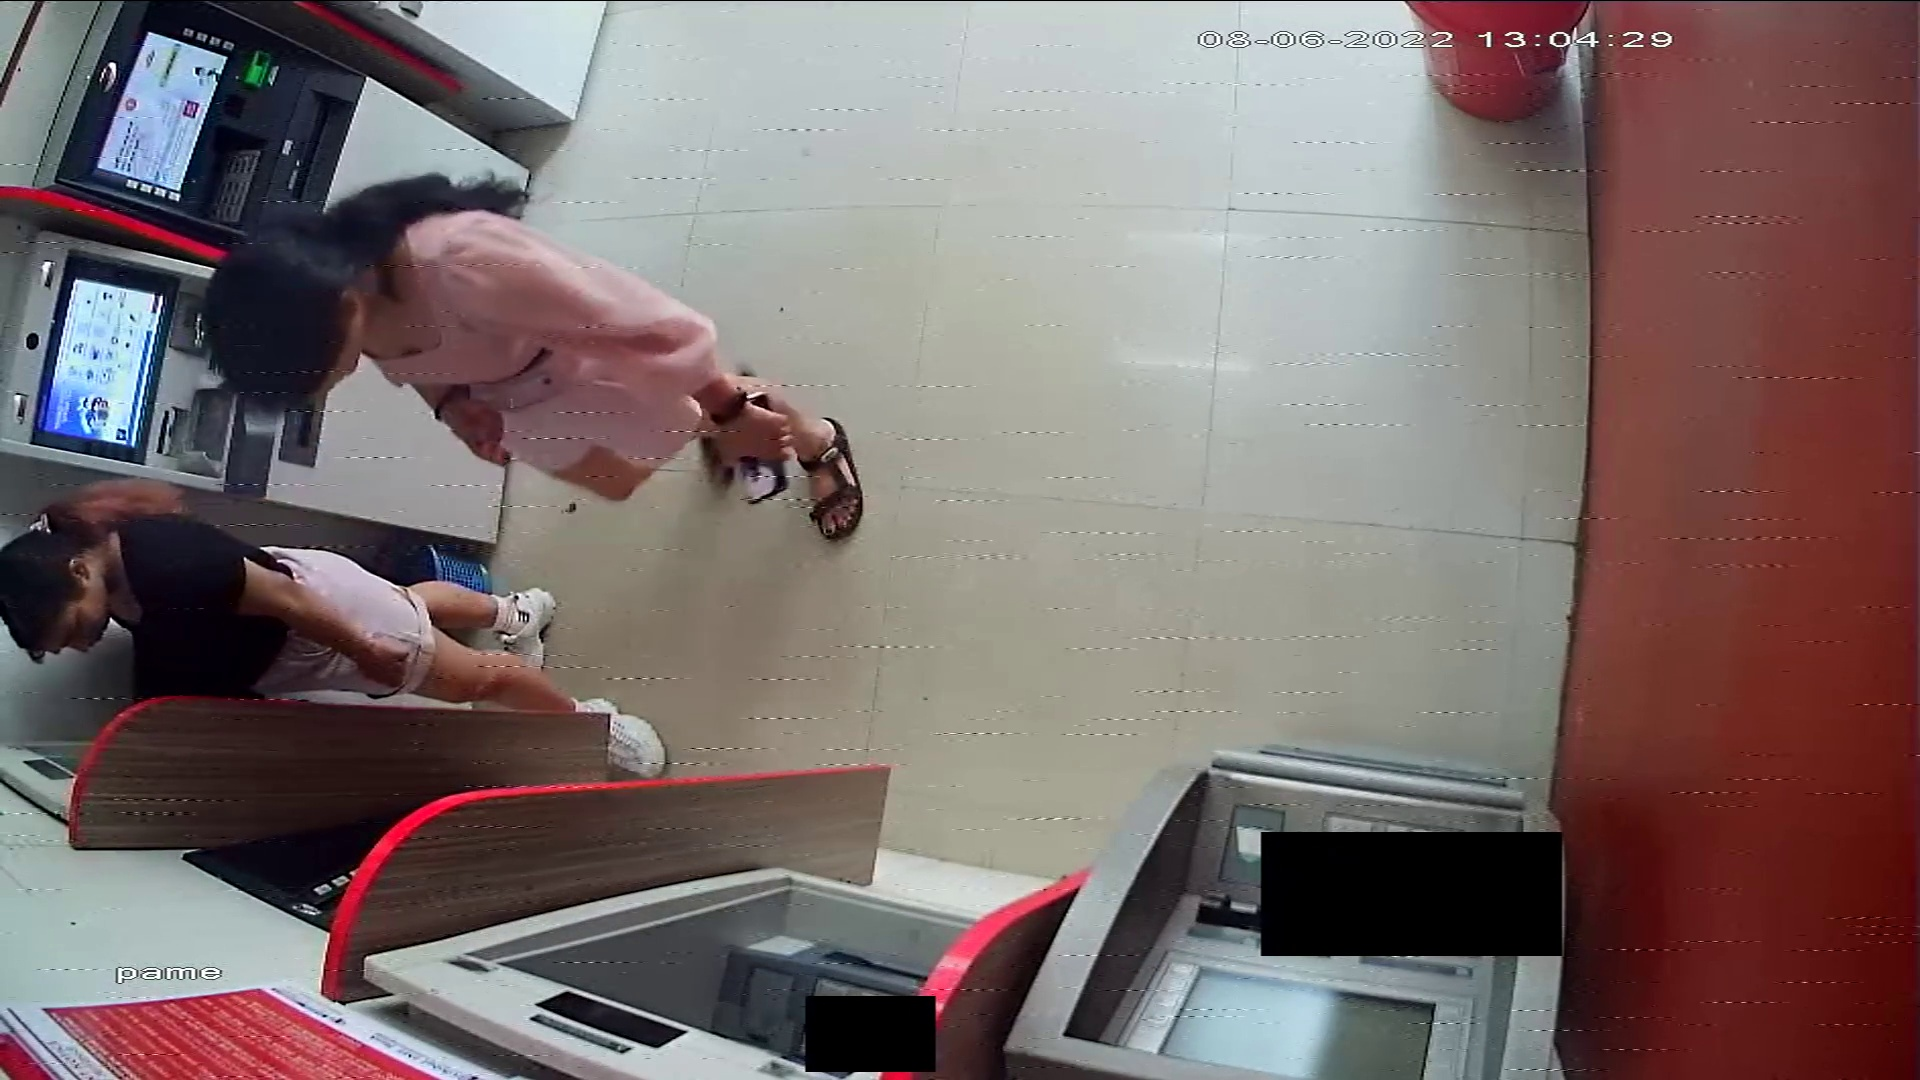person: (203, 169, 866, 546), (2, 474, 677, 776)
phone: (733, 386, 791, 506)
